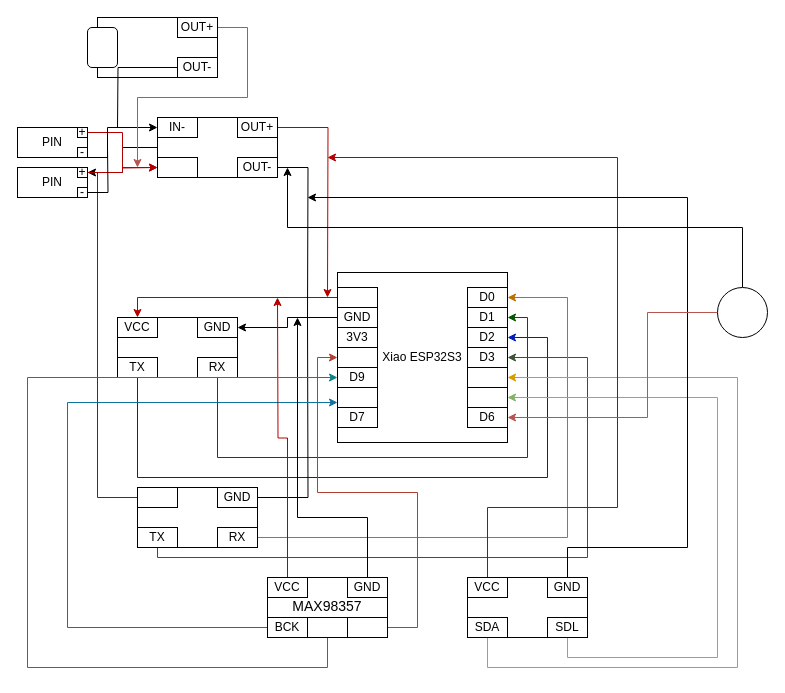
Some shapes in this 785 by 693 pixel diagram are drawn without their labels. The box of each missing label's shape, as (x1, y1, x2, y2) in pixels:
3V7: (136, 486, 178, 508)
5V: (336, 286, 378, 308)
D10: (336, 346, 378, 368)
D4: (466, 366, 508, 388)
D5: (466, 386, 508, 408)
D8: (336, 386, 378, 408)
DATA: (346, 616, 388, 638)
DC-DC: (156, 116, 278, 178)
GPS: (116, 316, 238, 378)
GY-US2: (466, 576, 588, 638)
IN+: (156, 156, 198, 178)
Mạch sạc: (96, 16, 218, 78)
Nút nhấn giữ: (716, 286, 768, 338)
SIM: (136, 486, 258, 548)
WS: (306, 616, 348, 638)
